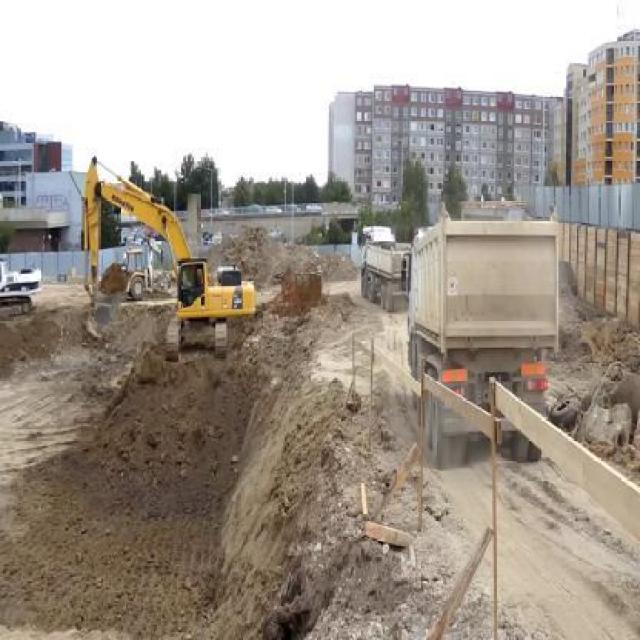Dump Truck: (405, 200, 558, 472), (357, 222, 414, 313)
Excavator: (77, 154, 258, 363), (0, 260, 43, 315)
